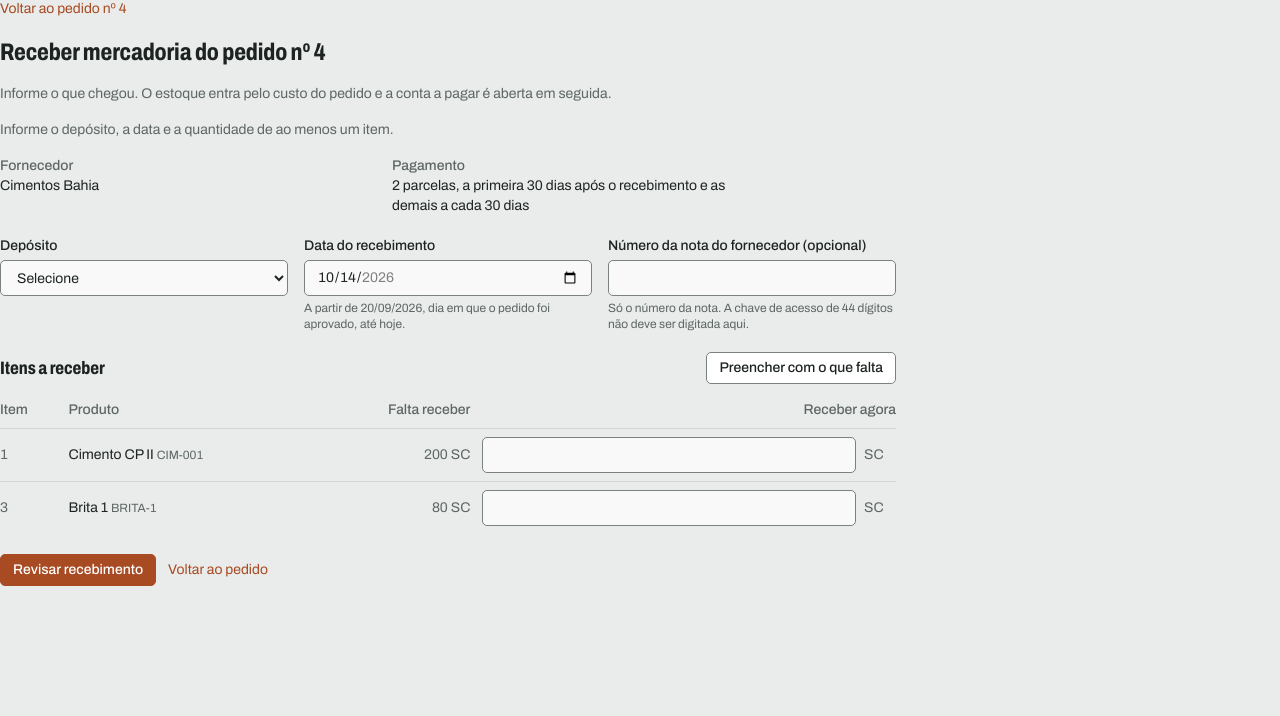
ReceiveGoodsScreen › reviews what is about to be received, with its warning, before it is sent
Select "Loja" in the dropdown labelled "Depósito" at (144, 278), box [0, 260, 288, 296]
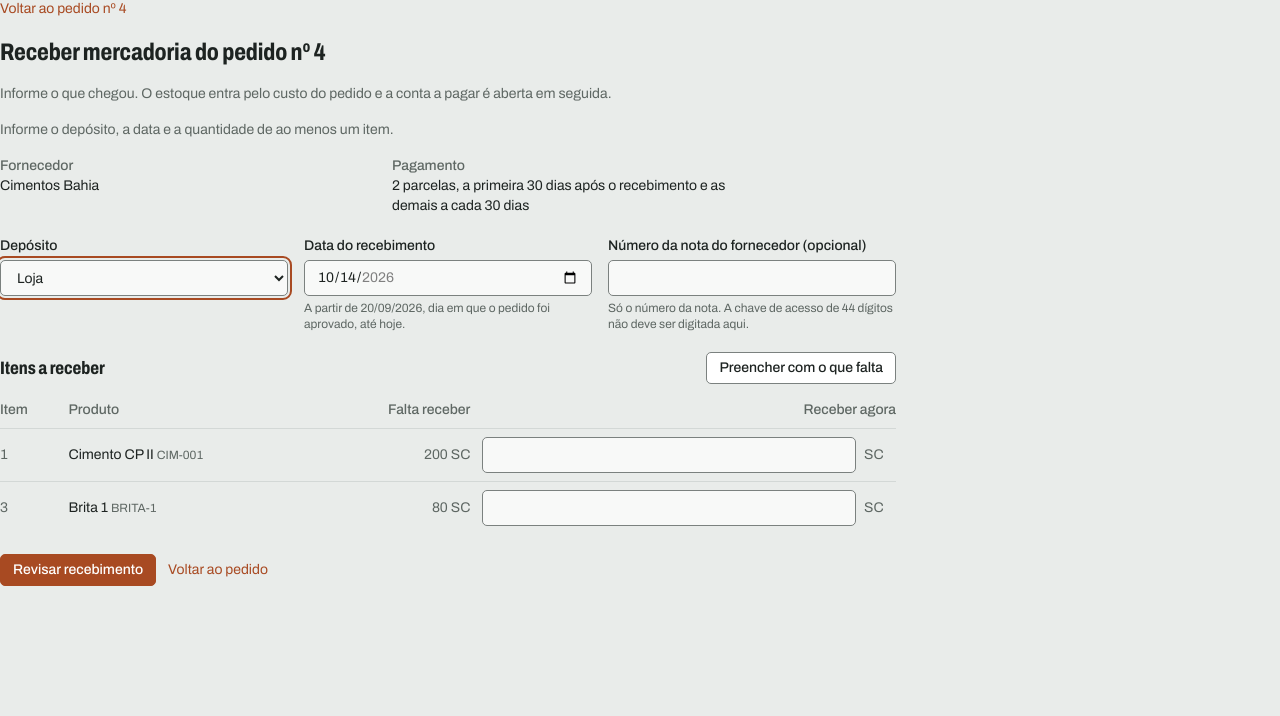
Type "120" into the field named "Quantidade a receber, item 1: Cimento CP II" at (669, 455), box [482, 437, 856, 473]
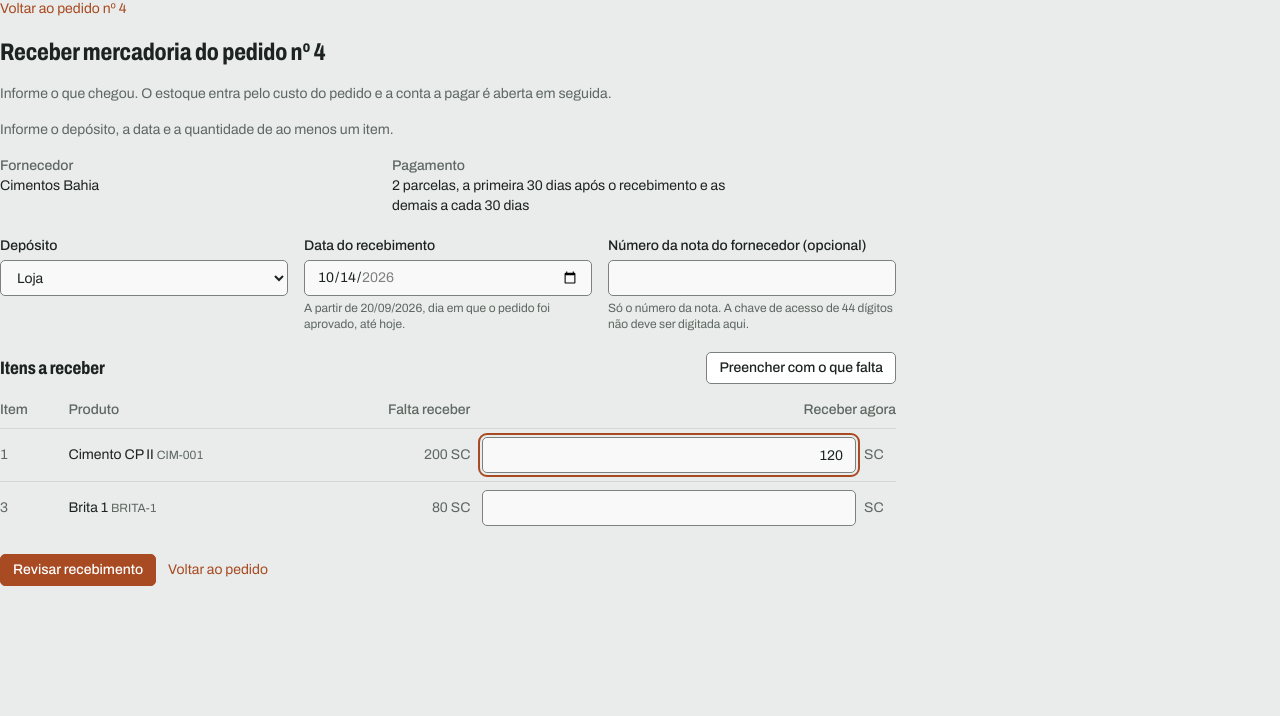
Type "1.200" into the field named "Quantidade a receber, item 3: Brita 1" at (669, 508), box [482, 490, 856, 526]
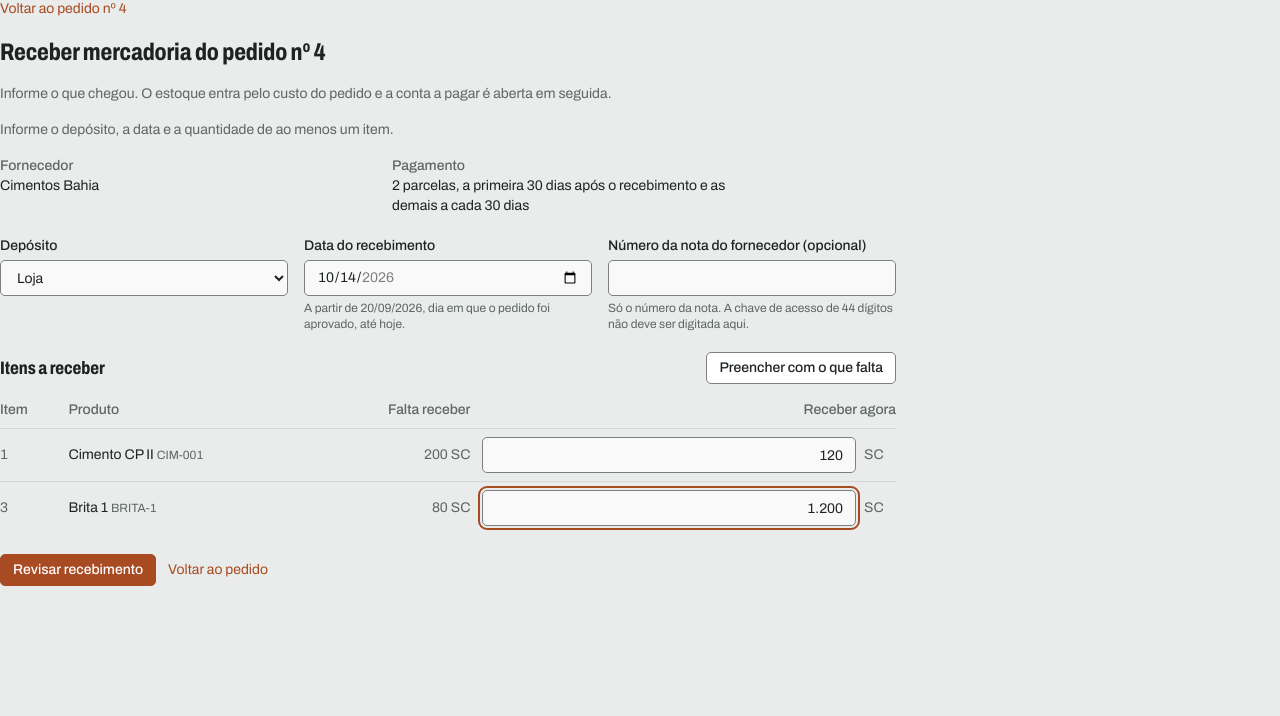
Click the button "Revisar recebimento" at (78, 570), box [0, 554, 156, 586]
(page scrolled)
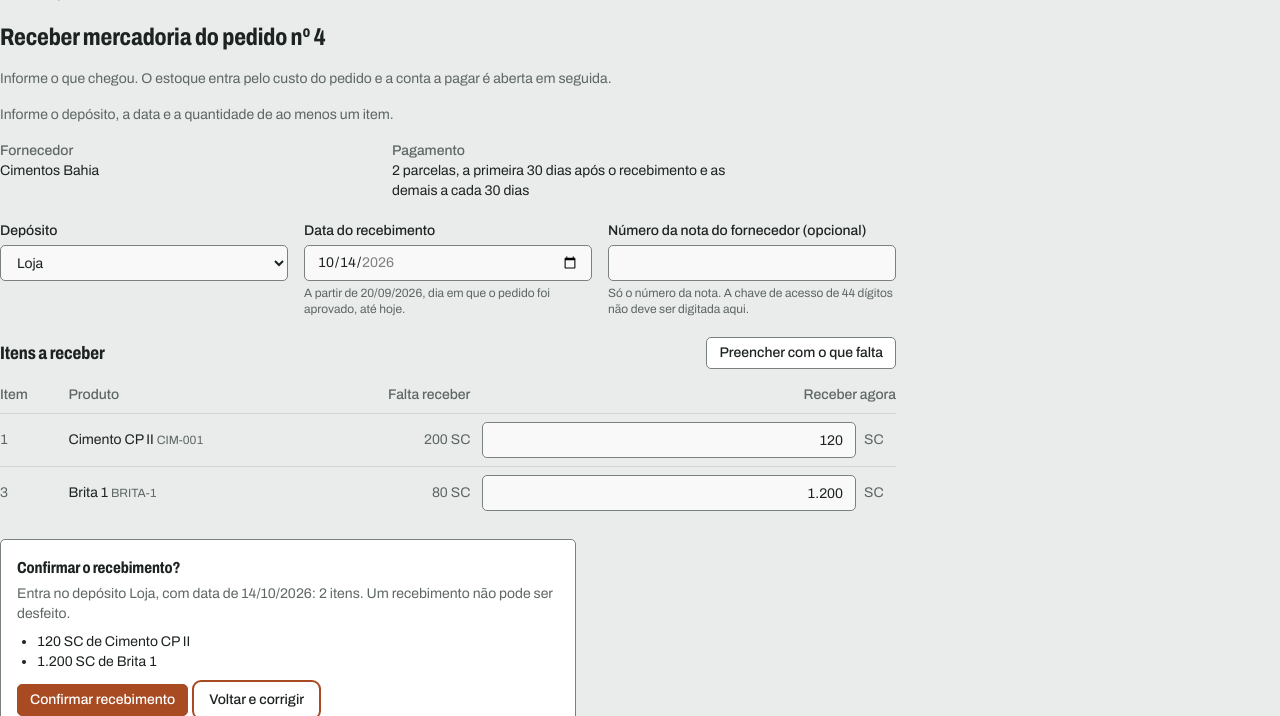
expect the dialog "Confirmar o recebimento?" shows "Entra no depósito Loja": met, box [17, 586, 553, 621]
expect the dialog "Confirmar o recebimento?" shows "2 itens": met, box [17, 586, 553, 621]
expect the dialog "Confirmar o recebimento?" shows "Um recebimento não pode ser desfeito.": met, box [17, 586, 553, 621]
